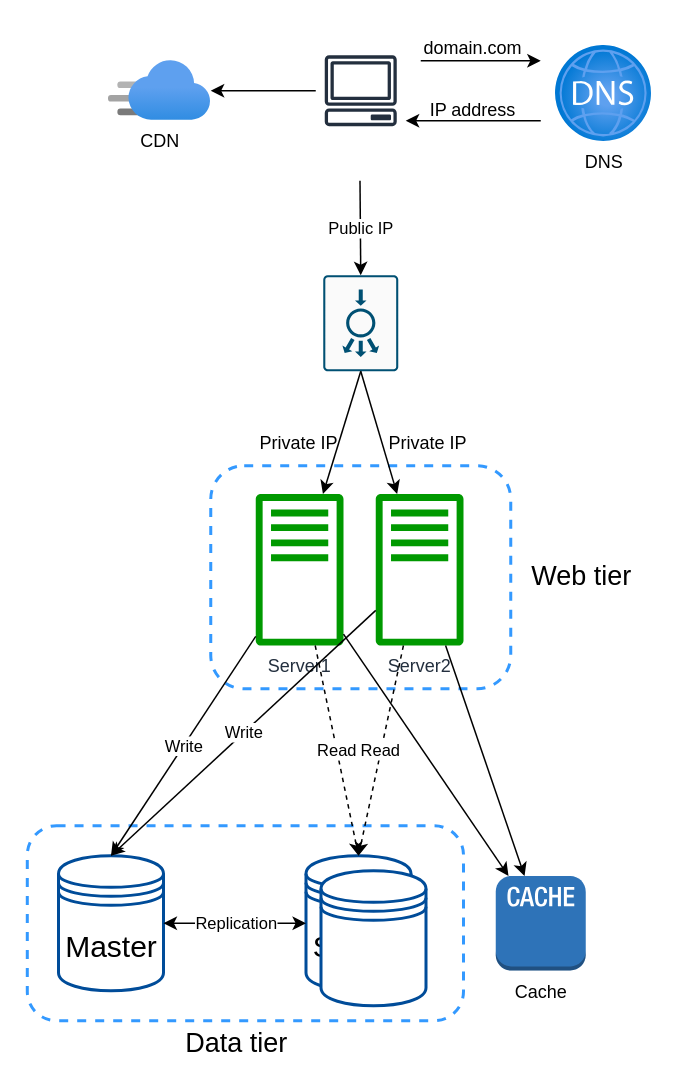
This 678x1091 diagram has some shape labels left out. Here are the shapes that lost their labels. From the top down, the centre of each, then its label:
(x=360, y=90): Client
(x=360, y=322): Load Balancer
(x=373, y=937): SlaveN
